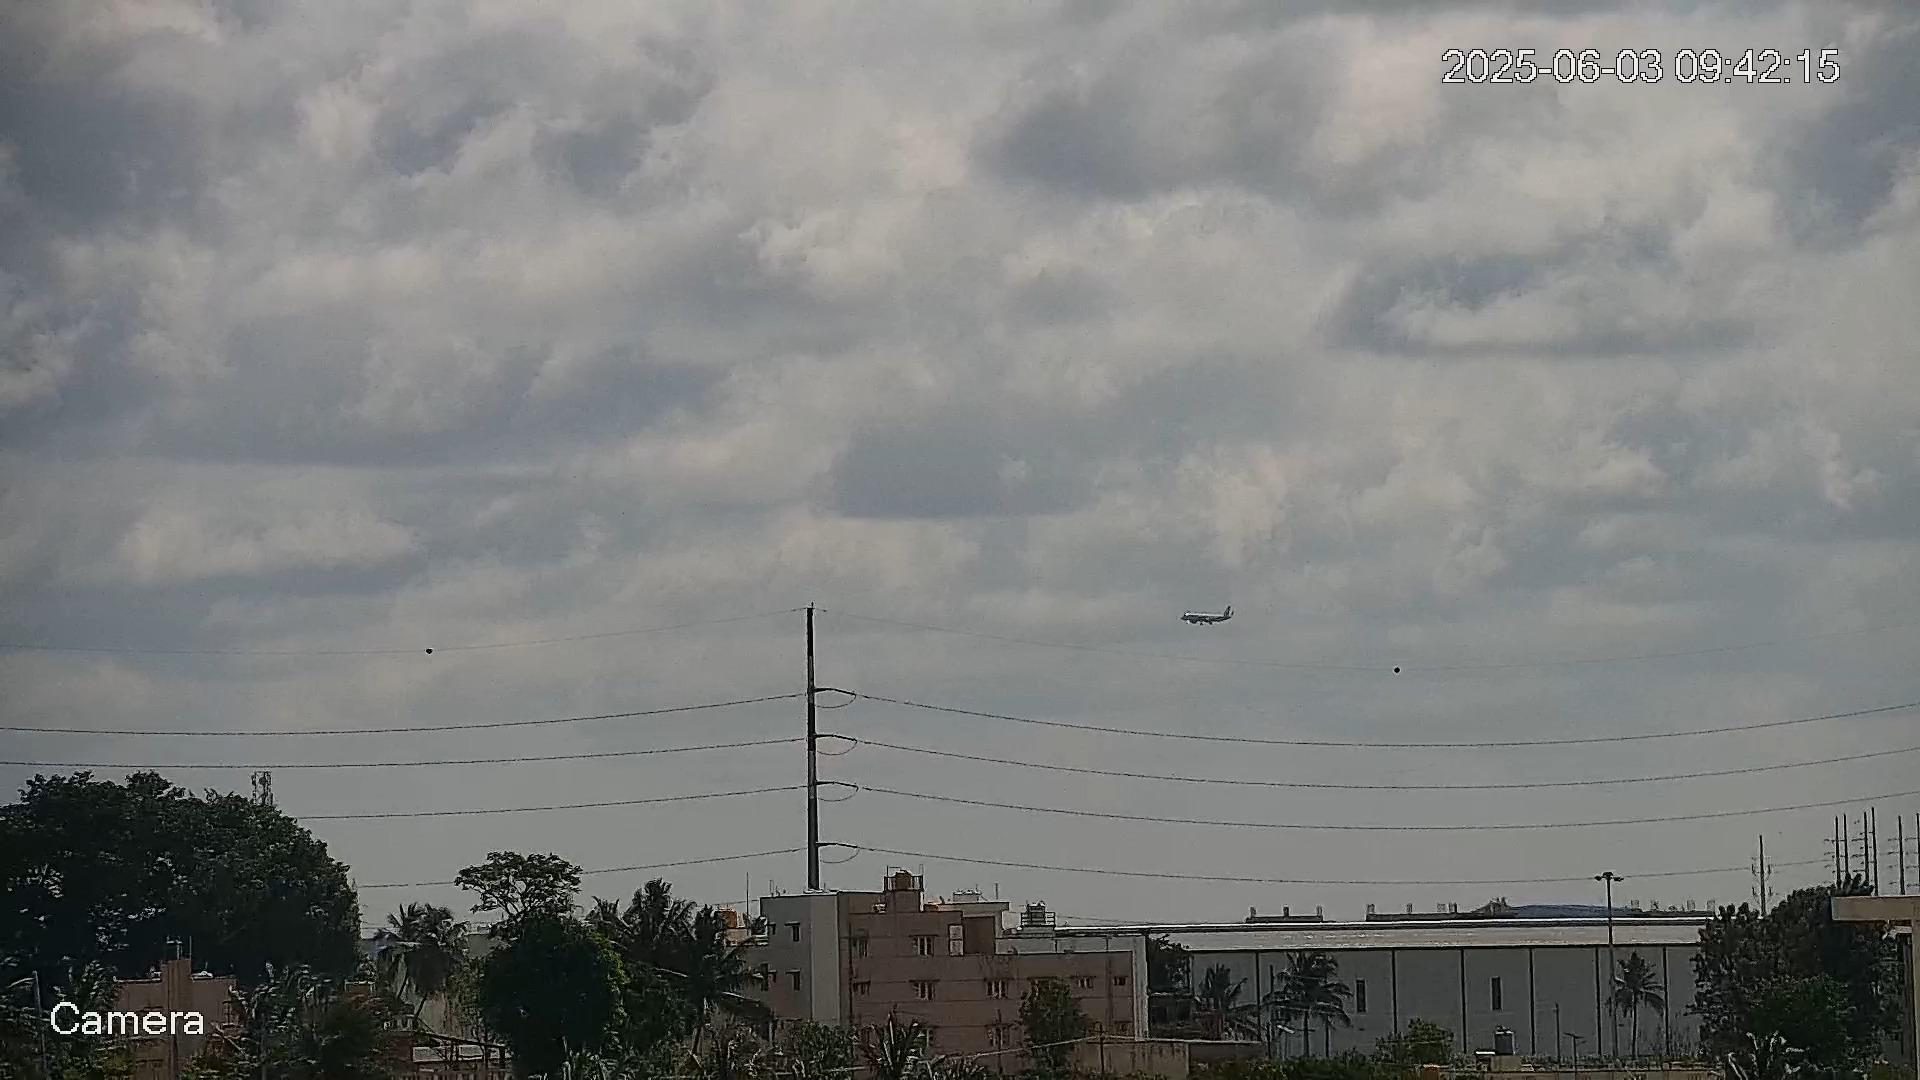Aircraft: (1179, 605, 1234, 626)
